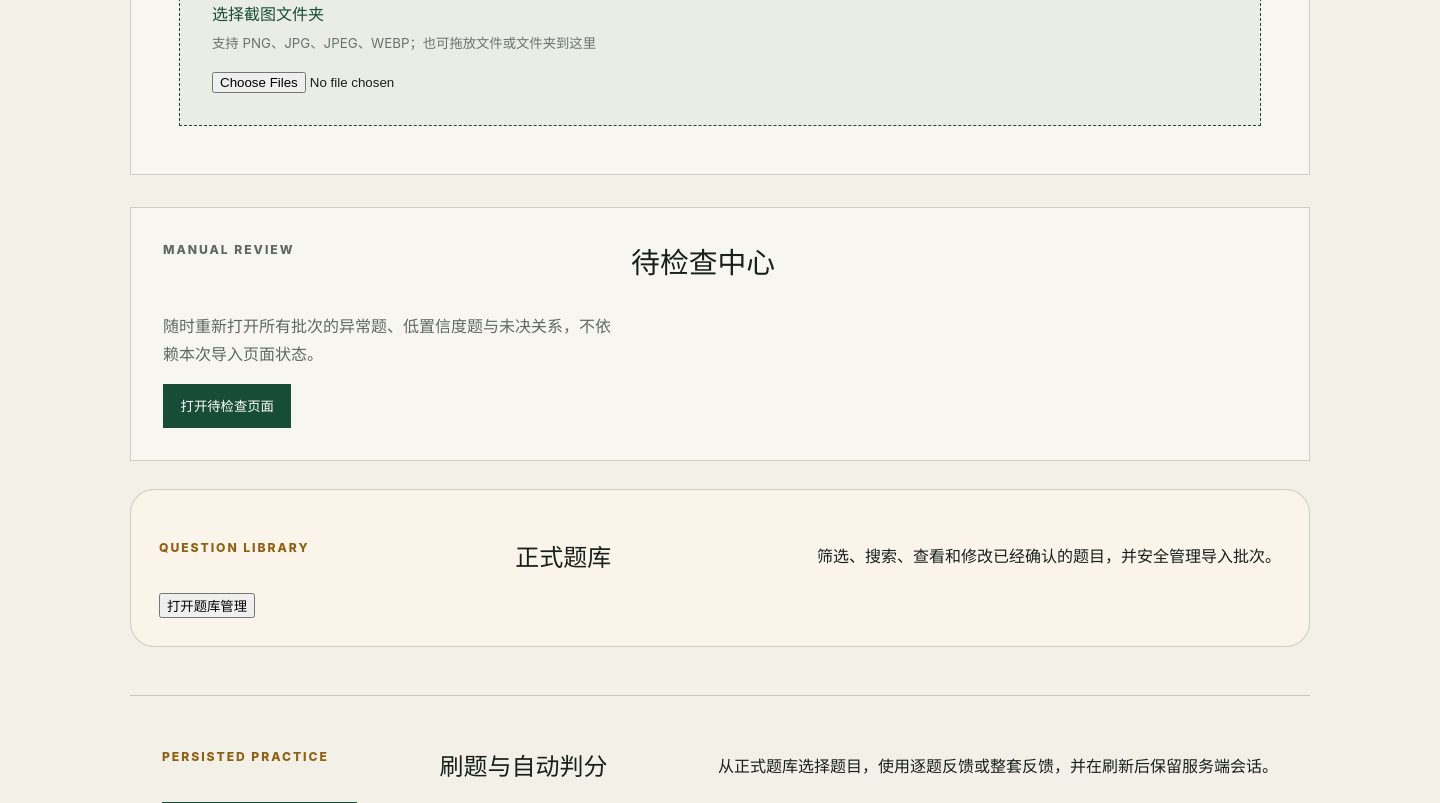
Scenario: 应用壳 › 可以从首页打开全局待检查中心
(page scrolled)
Click the button "打开待检查页面" at (227, 406), box [163,384,292,428]
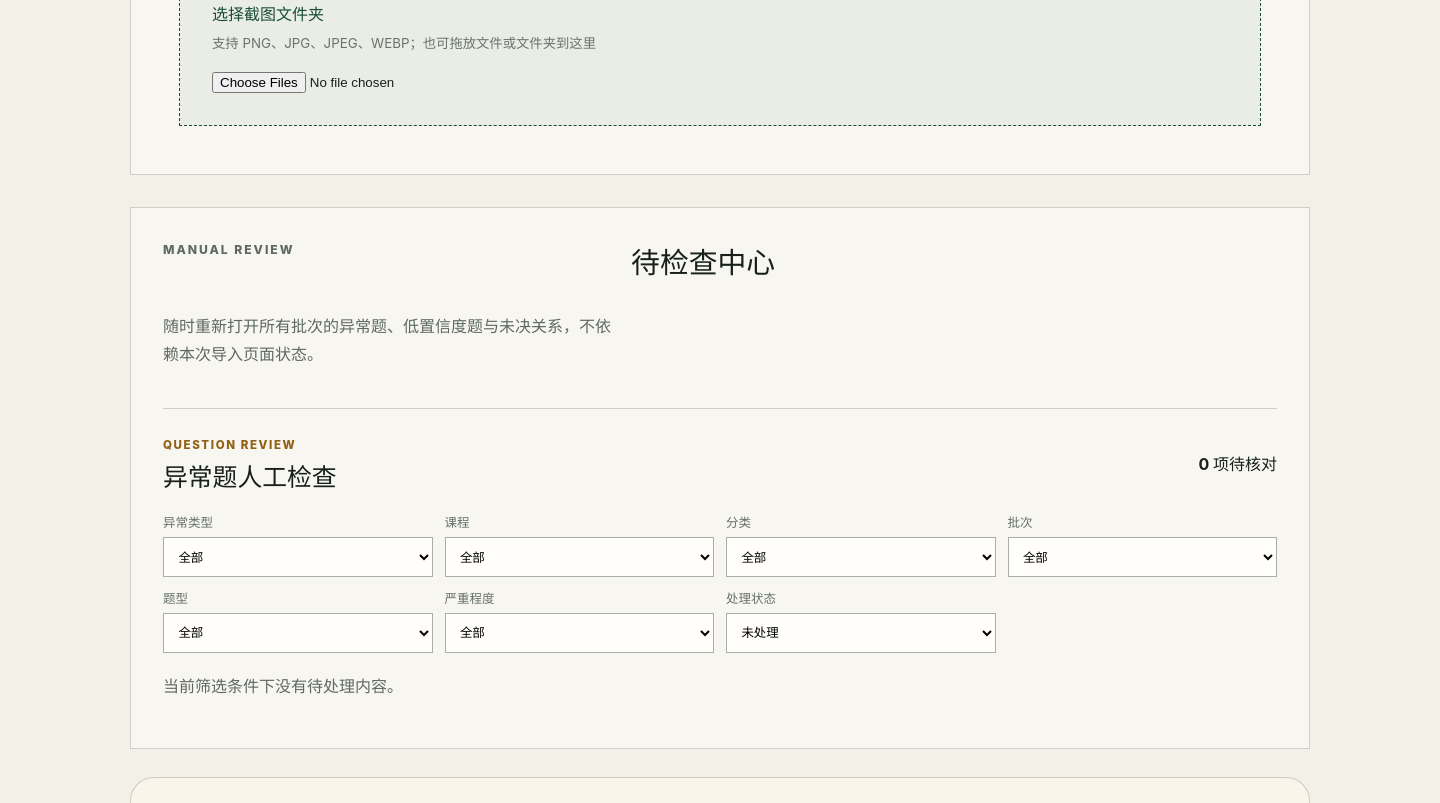
Now the heading "异常题人工检查" is shown, box [163,458,337,494]
